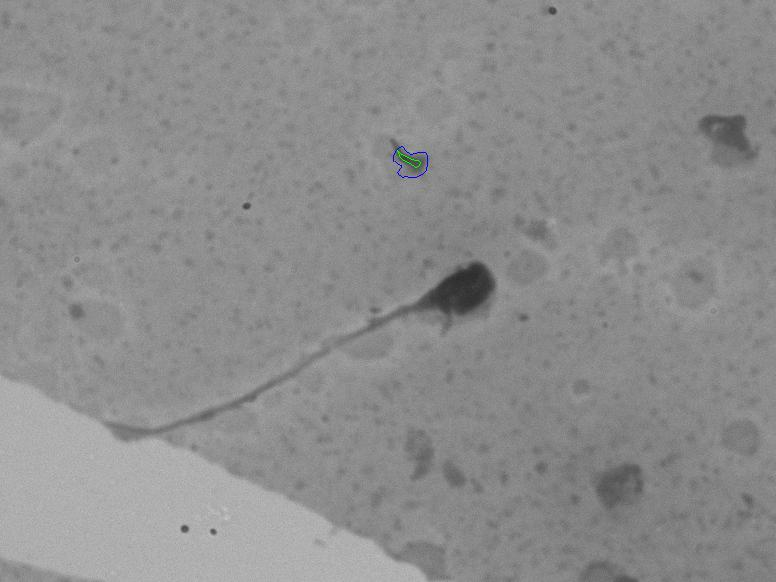Abnormal: (92, 253, 536, 495)
